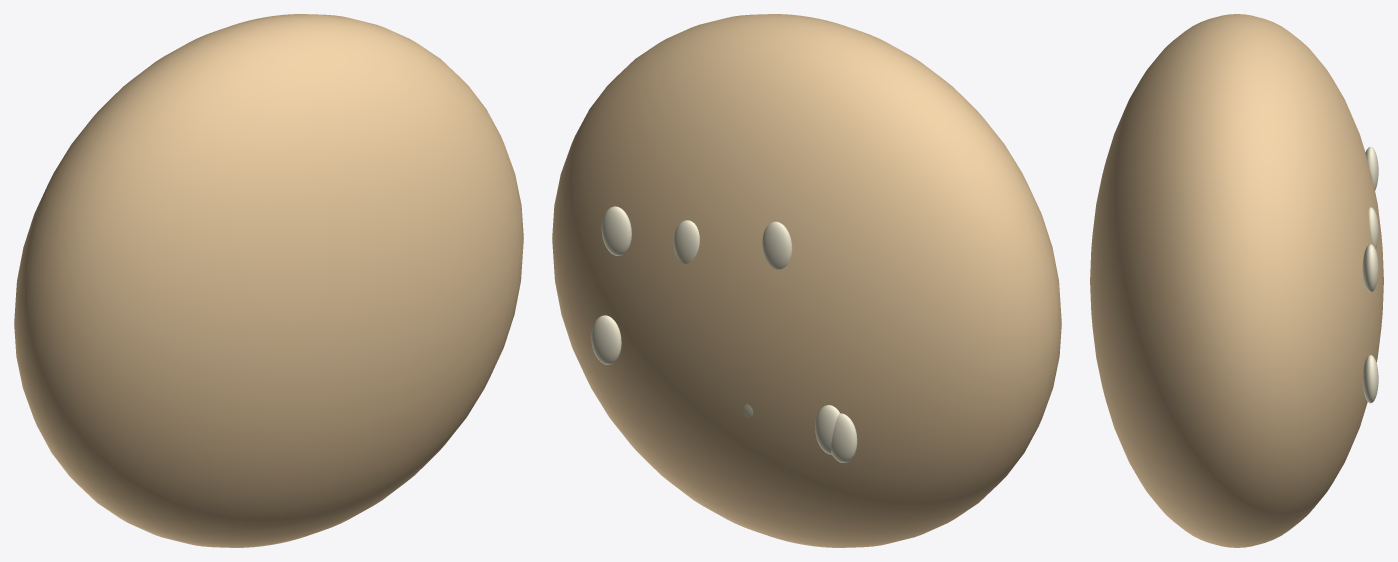
The model's file is bun.glb.
3 views of the same model, side by side, from view 1: azimuth 30°, elevation 25°; view 2: azimuth 150°, elevation 25°; view 3: azimuth 270°, elevation 25° (orthographic). The views are drawn at different scales.
Visible parts, largest first — view 1: Sphere; view 2: Sphere, Sphere.006, Sphere.007, Sphere.002, Sphere.004, Sphere.003, Sphere.001; view 3: Sphere, Sphere.007, Sphere.006.
Boxes of the visible parts, left/top/right/bottom form: Sphere: left=14, top=14, right=523, bottom=547; Sphere: left=552, top=14, right=1061, bottom=547; Sphere.006: left=591, top=315, right=621, bottom=364; Sphere.007: left=601, top=206, right=631, bottom=255; Sphere.002: left=762, top=221, right=792, bottom=269; Sphere.004: left=831, top=413, right=857, bottom=462; Sphere.003: left=673, top=220, right=699, bottom=263; Sphere.001: left=815, top=405, right=839, bottom=454; Sphere: left=1090, top=14, right=1383, bottom=547; Sphere.007: left=1362, top=244, right=1378, bottom=292; Sphere.006: left=1362, top=355, right=1378, bottom=403.
Bounding box in the file's own units: 2 × 2 × 1.1.
